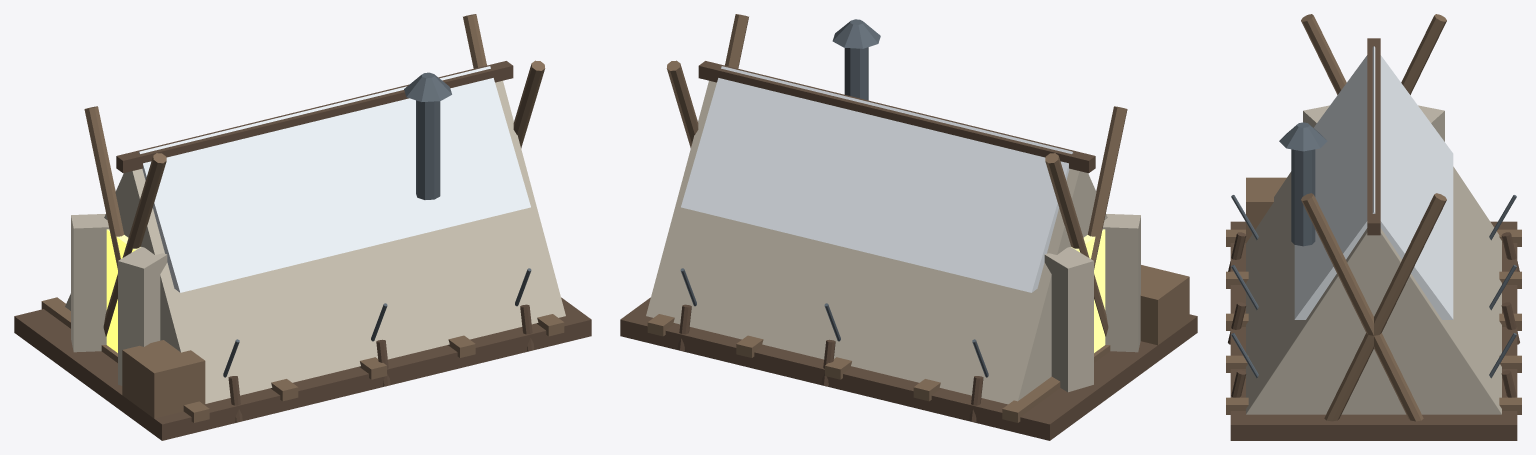
The model's file is tent.glb.
3 views of the same model, side by side, from view 1: azimuth 30°, elevation 25°; view 2: azimuth 150°, elevation 25°; view 3: azimuth 270°, elevation 25° (orthographic). The views are drawn at different scales.
Visible parts, largest first — view 1: Tent; view 2: Tent; view 3: Tent.
Boxes of the visible parts, box(x1,y1,x2,y2) form: Tent: box(14, 14, 591, 440); Tent: box(620, 14, 1197, 440); Tent: box(1226, 14, 1521, 440).
Bounding box in the file's own units: 2.18 × 1.28 × 1.34.
